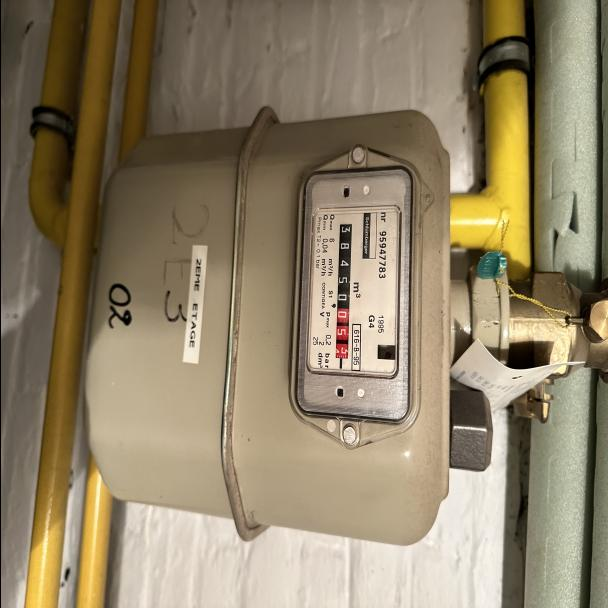0: (334, 290, 350, 308), (334, 307, 347, 326)
3: (333, 343, 348, 362), (338, 222, 352, 238)
4: (336, 256, 352, 274)
5: (335, 271, 351, 292), (334, 326, 348, 344)
8: (336, 239, 352, 255)
9: (332, 221, 356, 309)
cm: (330, 308, 350, 363)
